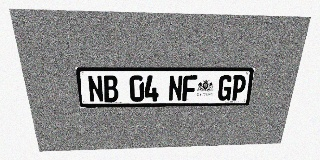0: (129, 75, 144, 102)
4: (144, 75, 159, 102)
B: (102, 75, 119, 102)
F: (182, 75, 197, 101)
G: (217, 75, 233, 101)
N: (87, 75, 104, 102), (168, 75, 183, 101)
P: (230, 75, 247, 100)
